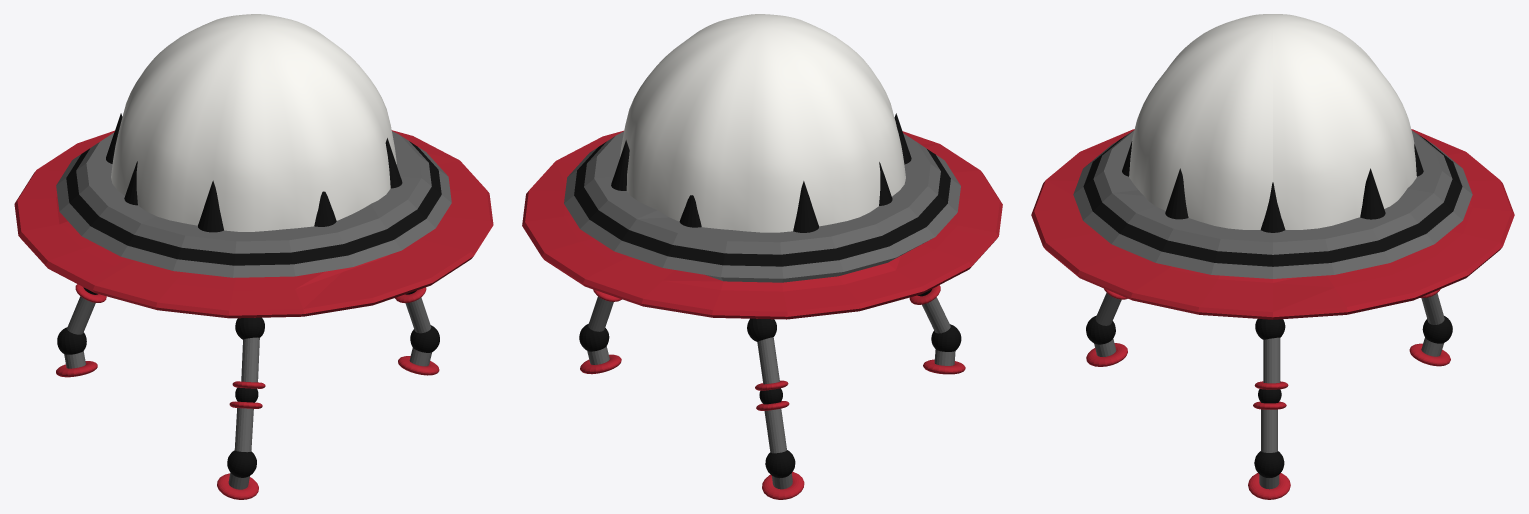
Rendered from deepseek41_t01.glb.
The picture shows the model from 3 angles, left to right: view 1: azimuth 30°, elevation 25°; view 2: azimuth 150°, elevation 25°; view 3: azimuth 270°, elevation 25°; orthographic projection.
Parts seen in each view (by area): view 1: slot_anchor_saucer, slot_dome, slot_legs; view 2: slot_anchor_saucer, slot_dome, slot_legs; view 3: slot_anchor_saucer, slot_dome, slot_legs.
Boxes of the visible parts, left/top/right/bottom form: slot_anchor_saucer: left=14, top=113, right=493, bottom=318; slot_dome: left=111, top=14, right=396, bottom=231; slot_legs: left=56, top=284, right=439, bottom=499; slot_anchor_saucer: left=522, top=113, right=1002, bottom=319; slot_dome: left=619, top=14, right=905, bottom=232; slot_legs: left=579, top=285, right=965, bottom=499; slot_anchor_saucer: left=1031, top=129, right=1514, bottom=319; slot_dome: left=1129, top=14, right=1416, bottom=229; slot_legs: left=1086, top=288, right=1452, bottom=499.
Size of the model in its own units: 2 by 1.77 by 2.
Materials: 2 (1 with a texture image).
